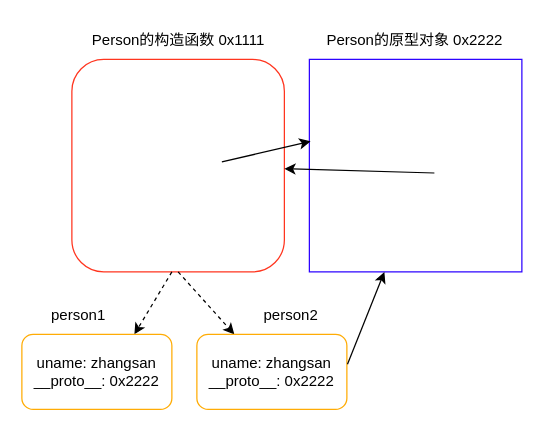
The diagram is 544 pixels wide and 431 high, and some of its shapes have lost their labels. The shapes that lost their labels are listed below. From the top down, each one's centre as x and y in pixels, then its label:
(x=177, y=165): prototype 0x2222
(x=415, y=165): construction 0x1111
